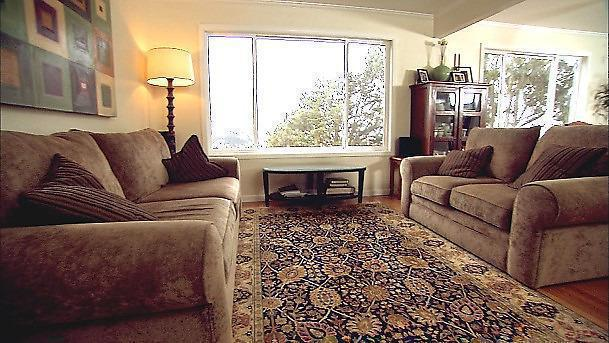Ventana: (207, 31, 391, 155)
